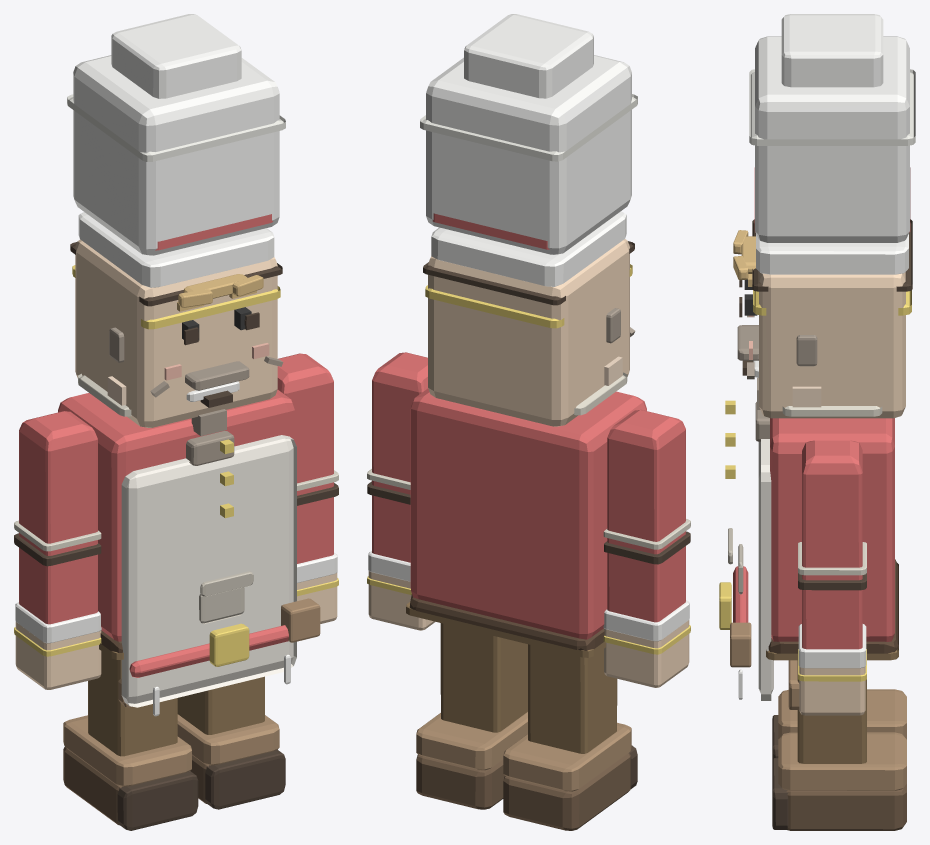
The model's file is cook.glb.
3 views of the same model, side by side, from view 1: azimuth 30°, elevation 25°; view 2: azimuth 150°, elevation 25°; view 3: azimuth 270°, elevation 25° (orthographic).
Visible parts, largest first — view 1: Apron, HatTop, Head, Arm_L, Body, HatPuff, Arm_R, HatBrim, Leg_L, BootCuff_L, BootToe_L, BootToe_R (+24 smaller); view 2: Body, HatTop, Head, Arm_L, HatPuff, Leg_L, Leg_R, Arm_R, HatBrim, Boot_L, BootCuff_L, BootCuff_R (+15 smaller); view 3: HatTop, Head, Body, Arm_R, HatPuff, BootCuff_R, HatBrim, Boot_R, Apron, Leg_R, Hand_R, BootCuff_L (+20 smaller).
Part boxes in pixels (x1,y1,x2,y2): Apron: (121,435,296,707); HatTop: (73,55,279,255); Head: (75,239,277,427); Arm_L: (19,411,97,624); Body: (58,389,294,641); HatPuff: (111,14,241,98); Arm_R: (277,353,333,563); HatBrim: (78,212,274,287); Leg_L: (88,651,177,756); BootCuff_L: (63,715,191,786); BootToe_L: (117,771,198,830); BootToe_R: (205,750,285,809); Body: (410,388,646,639); HatTop: (426,55,631,254); Head: (428,239,629,426); Arm_L: (607,409,685,622); HatPuff: (464,14,593,98); Leg_L: (528,644,617,753); Leg_R: (440,623,527,732); Arm_R: (372,352,427,562); HatBrim: (431,211,626,286); Boot_L: (503,752,630,830); BootCuff_L: (503,722,631,791); BootCuff_R: (416,712,527,770); HatTop: (755,36,909,242); Head: (759,272,905,418); Body: (770,418,894,641); Arm_R: (802,440,862,649); HatPuff: (781,14,883,87); BootCuff_R: (778,732,906,790); HatBrim: (756,234,908,274); Boot_R: (786,784,906,830); Apron: (758,439,773,700); Leg_R: (797,660,866,763); Hand_R: (799,666,865,715); BootCuff_L: (778,689,906,739).
Size of the model in its own units: 0.6758 by 1.65 by 0.3852.
